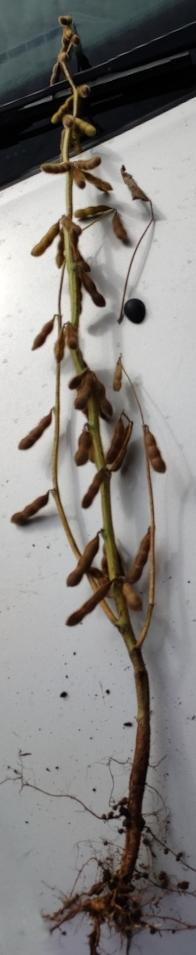soja: (60, 535, 104, 587), (63, 585, 115, 627), (15, 411, 59, 455), (126, 526, 155, 589), (78, 465, 109, 517), (8, 489, 53, 524), (24, 216, 58, 262), (142, 426, 173, 475), (78, 274, 113, 312), (120, 167, 153, 205), (23, 314, 58, 349), (72, 422, 97, 468), (120, 579, 149, 617), (106, 361, 140, 393), (45, 93, 77, 127), (110, 422, 131, 472), (110, 213, 136, 248), (108, 414, 127, 459), (68, 116, 97, 142), (69, 202, 116, 216), (63, 156, 108, 170), (64, 366, 91, 388), (83, 172, 110, 194), (63, 322, 84, 350), (66, 230, 89, 255), (93, 398, 119, 419), (36, 161, 69, 177), (51, 54, 66, 87), (75, 388, 92, 416), (54, 132, 72, 158), (68, 172, 91, 190), (55, 15, 75, 28), (56, 34, 67, 47)
